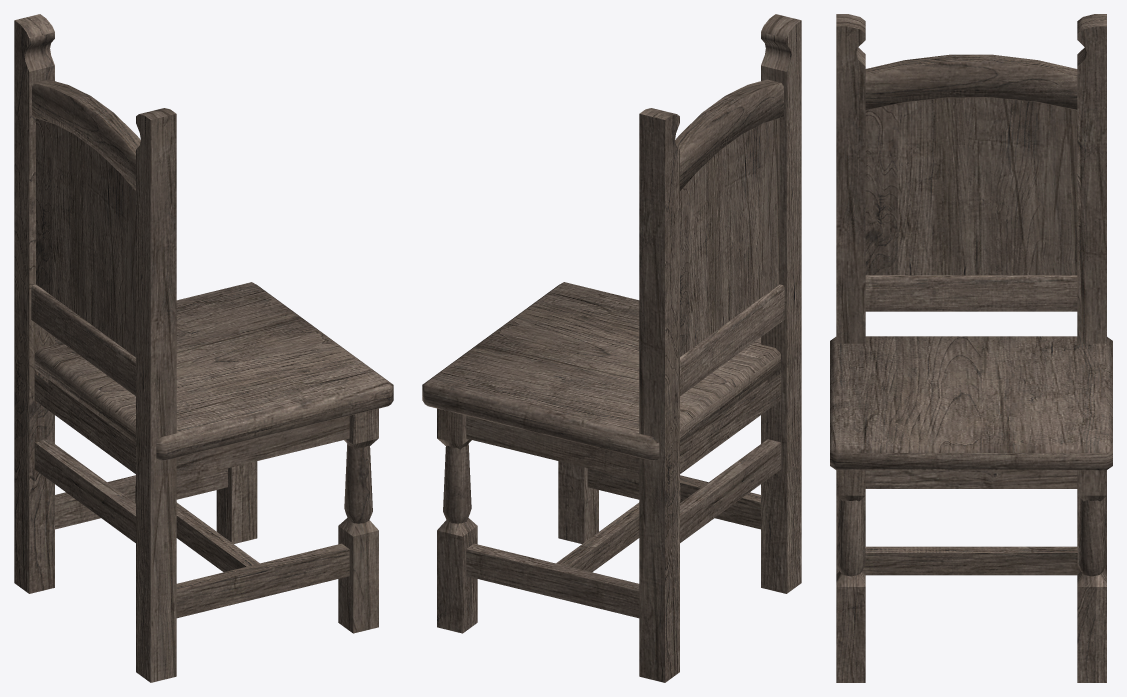
File: mw_chair_03.FBX
3 renders of one model, left to right at view 1: azimuth 30°, elevation 25°; view 2: azimuth 150°, elevation 25°; view 3: azimuth 270°, elevation 25°, orthographic.
Visible parts, largest first — view 1: mw_chair_03; view 2: mw_chair_03; view 3: mw_chair_03.
Boxes of the visible parts, <box> form: mw_chair_03: <box>14,14,393,682</box>; mw_chair_03: <box>422,14,801,682</box>; mw_chair_03: <box>830,14,1112,682</box>.
Bounding box in the file's own units: 64.53 × 143 × 65.59.
